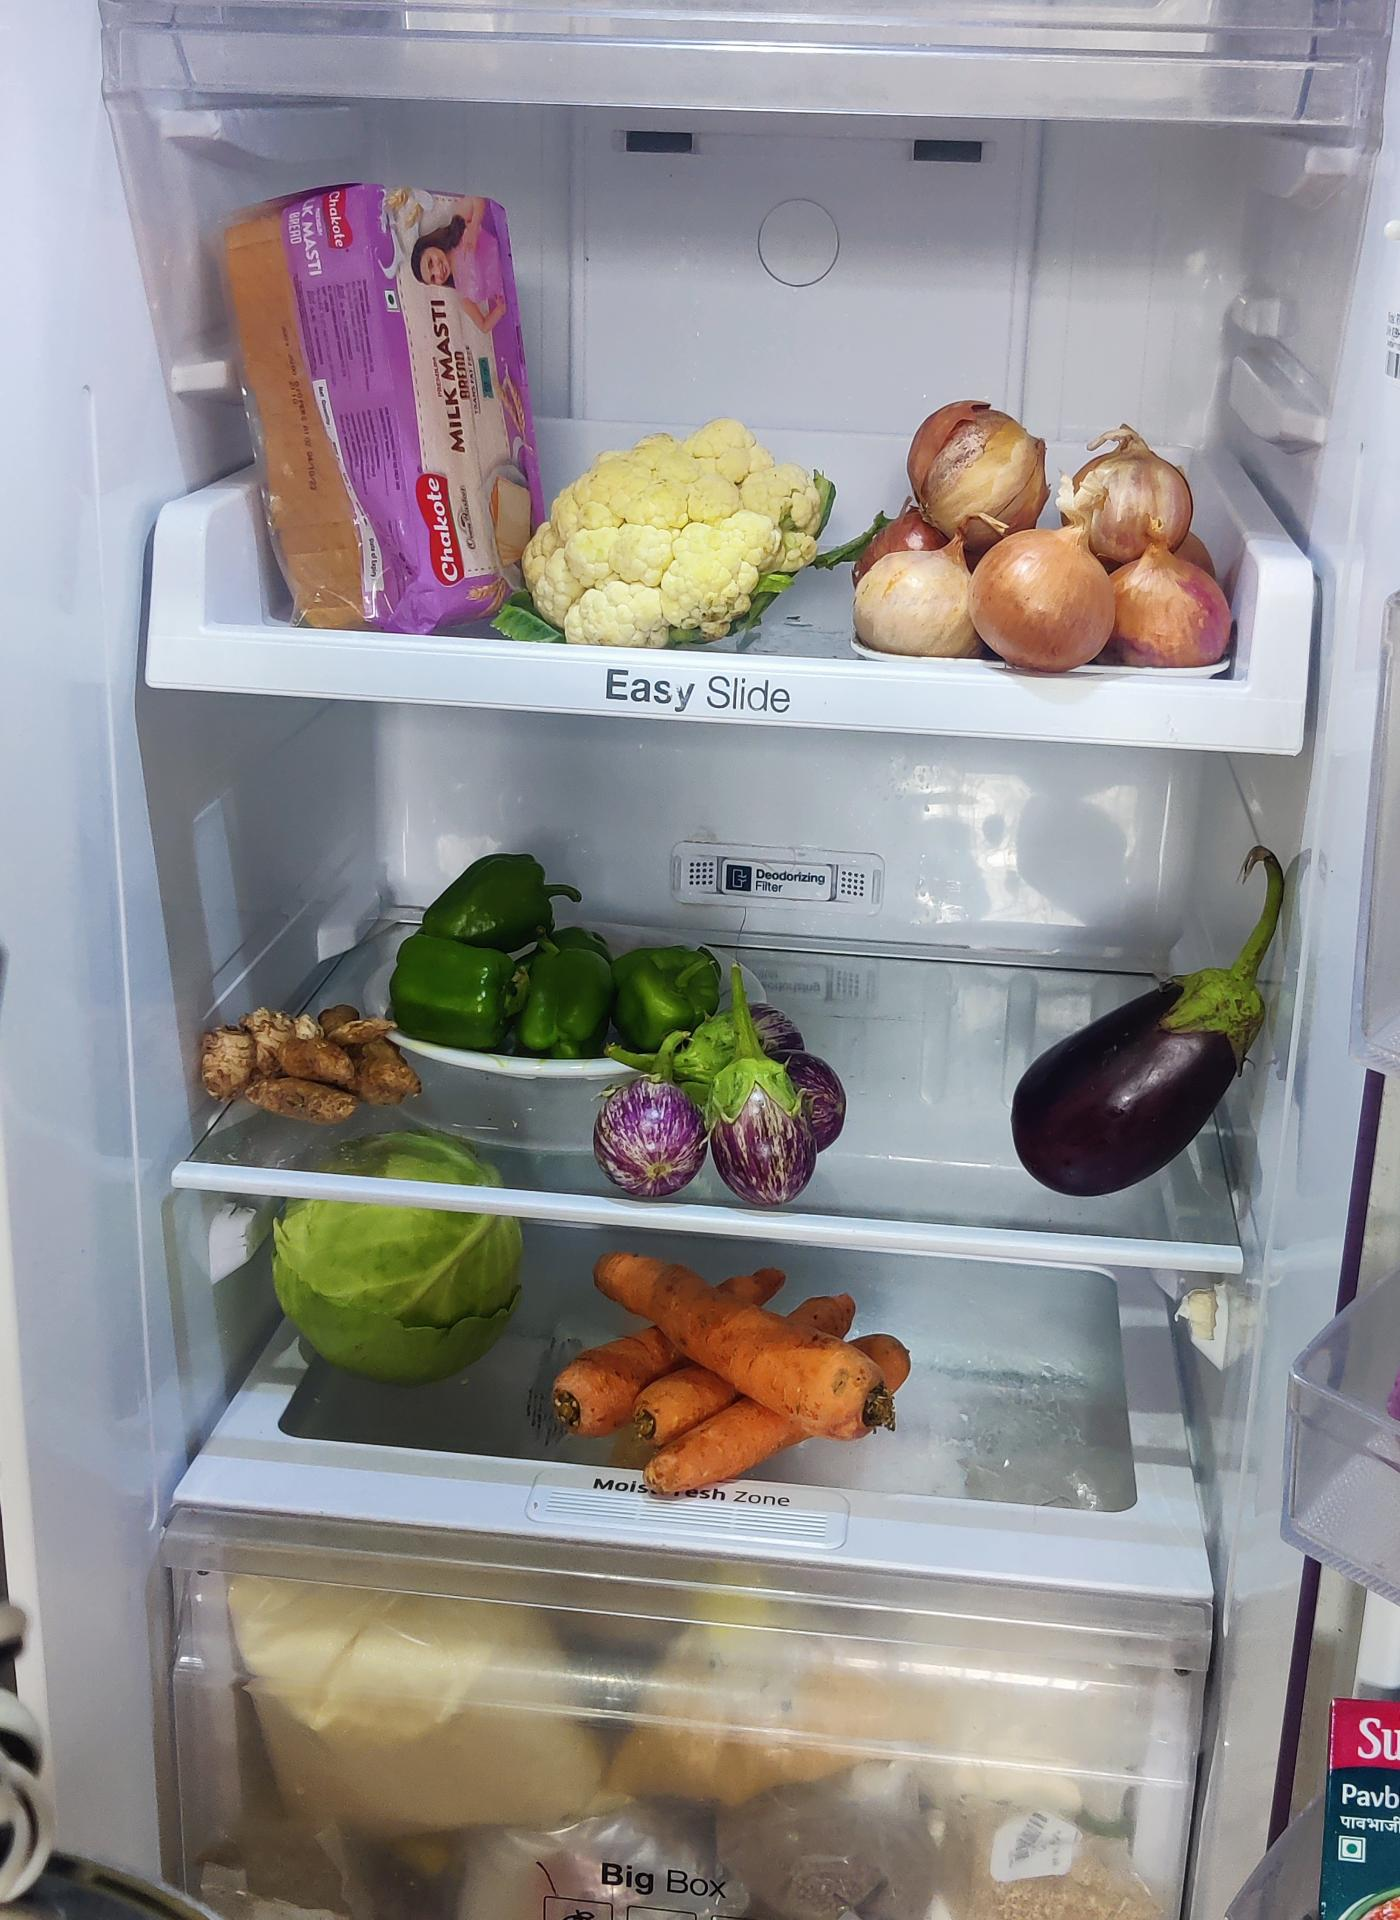bread: (218, 177, 546, 634)
brinjal: (1006, 964, 1257, 1197), (590, 1011, 844, 1203)
cabbage: (270, 1191, 523, 1385)
capsicum: (386, 854, 726, 1063)
carrots: (558, 1248, 923, 1491)
cauliflower: (522, 425, 832, 650)
ginger: (195, 1002, 420, 1124)
onion: (848, 408, 1237, 681)
